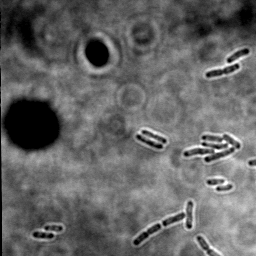Dividing: (132, 221, 163, 247), (204, 64, 241, 79), (139, 128, 168, 145)
Microcolony: (183, 133, 242, 164)
Rod: (134, 133, 164, 151), (226, 45, 251, 65), (161, 212, 187, 228), (184, 200, 196, 230), (31, 230, 55, 241), (42, 223, 65, 233), (216, 183, 234, 194), (205, 177, 227, 186)
